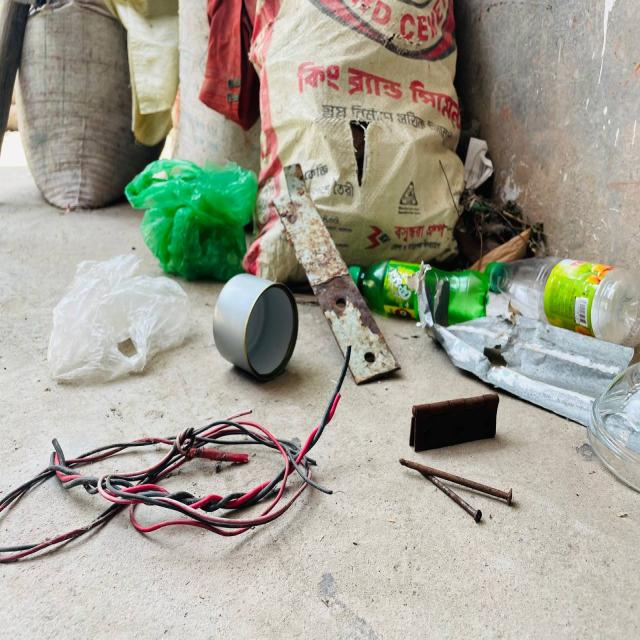Cable: (1, 405, 352, 589)
Glass: (592, 374, 639, 494)
Metal: (281, 156, 394, 390), (411, 305, 625, 397), (404, 384, 538, 526)
Plastics: (496, 228, 640, 322), (361, 249, 503, 313)
can: (212, 275, 304, 377)
